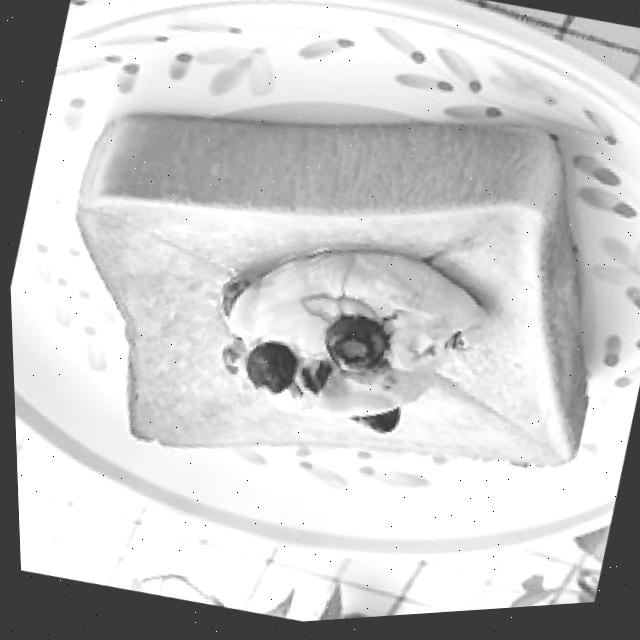面包点心: (1, 2, 640, 576)
